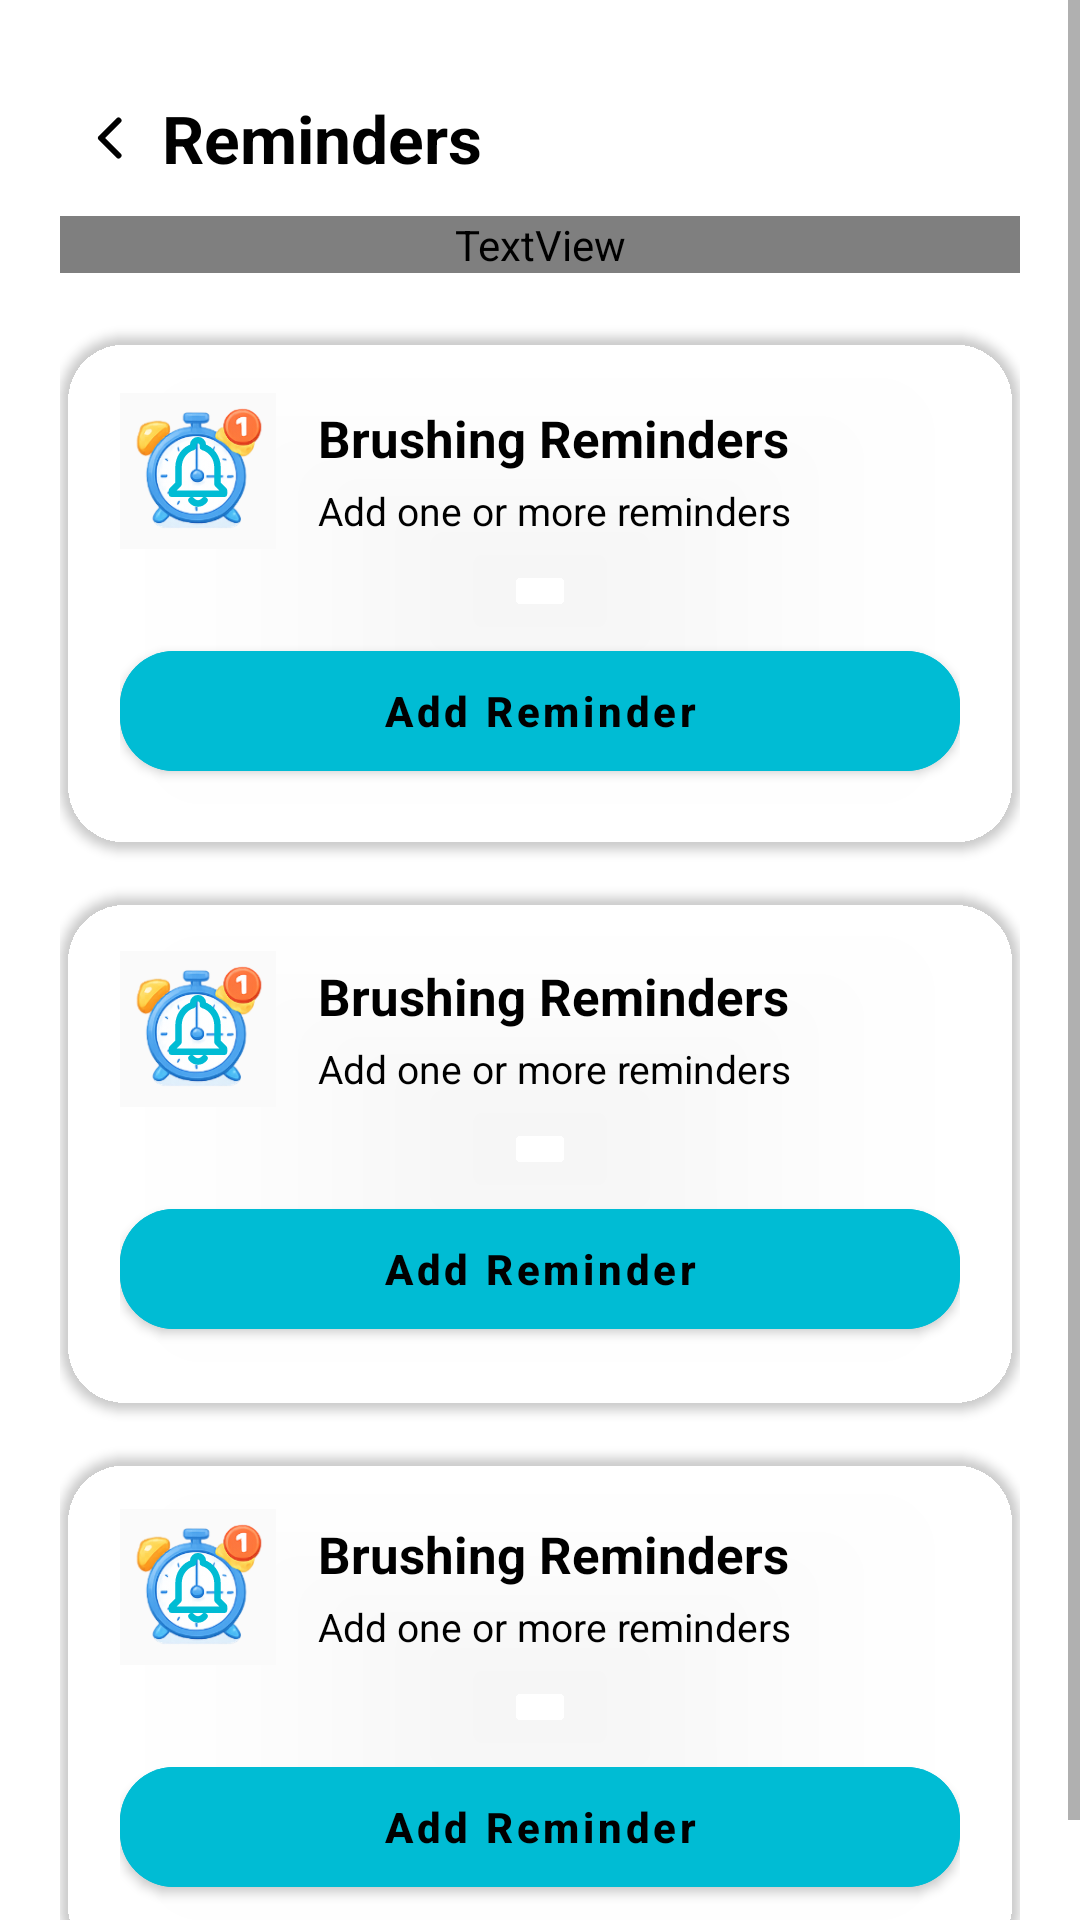

Screen size 1080 x 1920. Icon name, then its center in pixels as (x,y):
arrow back: (110,138)
notifications: (198,471), (198,1029), (198,1587)
